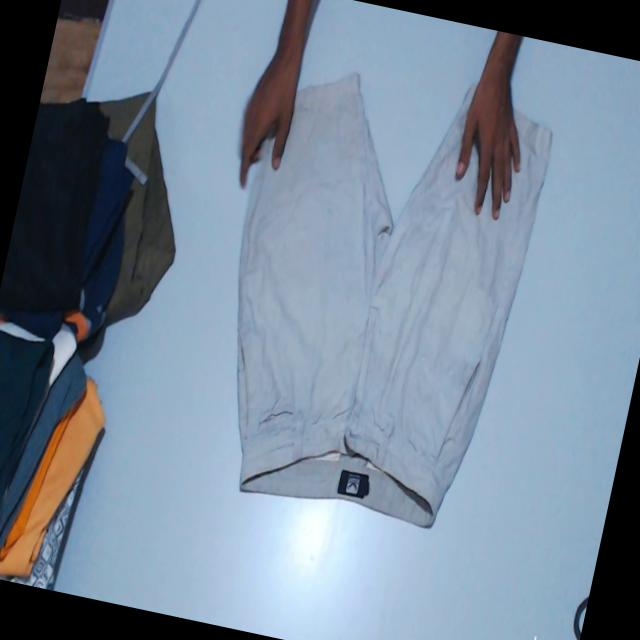new-garment: (237, 74, 551, 526)
